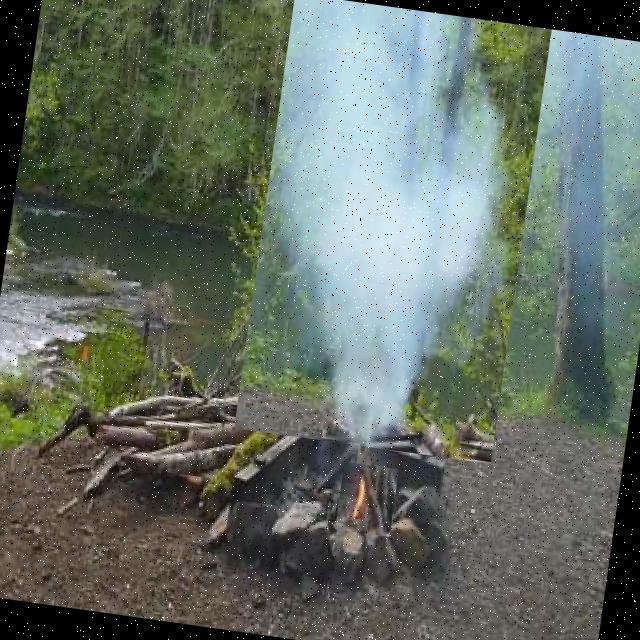fire: (234, 0, 552, 464), (335, 462, 399, 537)
